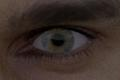eye: (43, 28, 75, 53)
